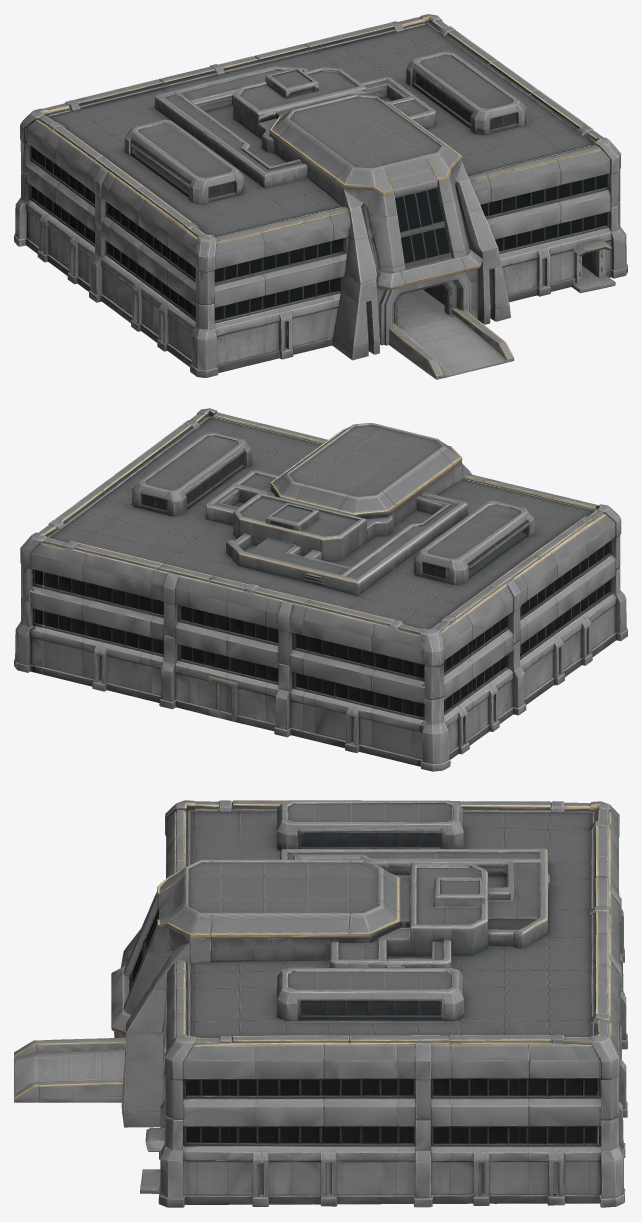
Rendered from imperial_gene_clinic.glb.
3 renders of one model, top to bottom at view 1: azimuth 30°, elevation 25°; view 2: azimuth 150°, elevation 25°; view 3: azimuth 270°, elevation 25°, orthographic. The views are drawn at different scales.
Parts seen in each view (by area): view 1: mesh_node; view 2: mesh_node; view 3: mesh_node.
Boxes of the visible parts, <box> form: mesh_node: <box>14,14,627,379</box>; mesh_node: <box>14,408,627,771</box>; mesh_node: <box>14,800,627,1207</box>.
Size of the model in its own units: 23.72 by 8.32 by 23.97.
Materials: 1 (1 with a texture image).
